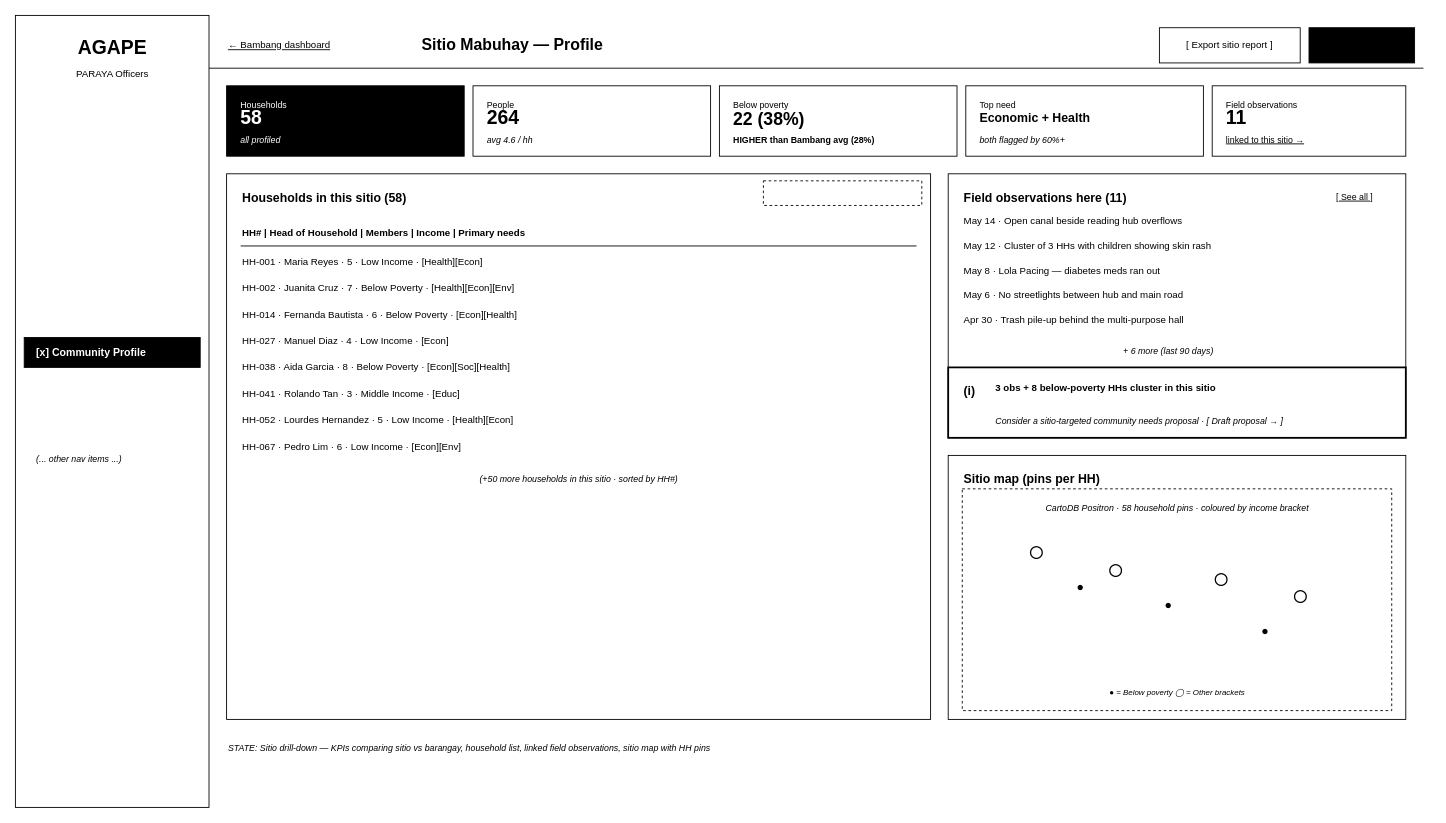
Some shapes in this 1446 by 823 pixel diagram are drawn without their labels. The shapes that lost their labels are listed below. From the top down, each one's centre as x and y in pixels, then its label:
At pixel 1361 45: "[ + Add household ]".
At pixel 842 192: "🔍 Filter…".
